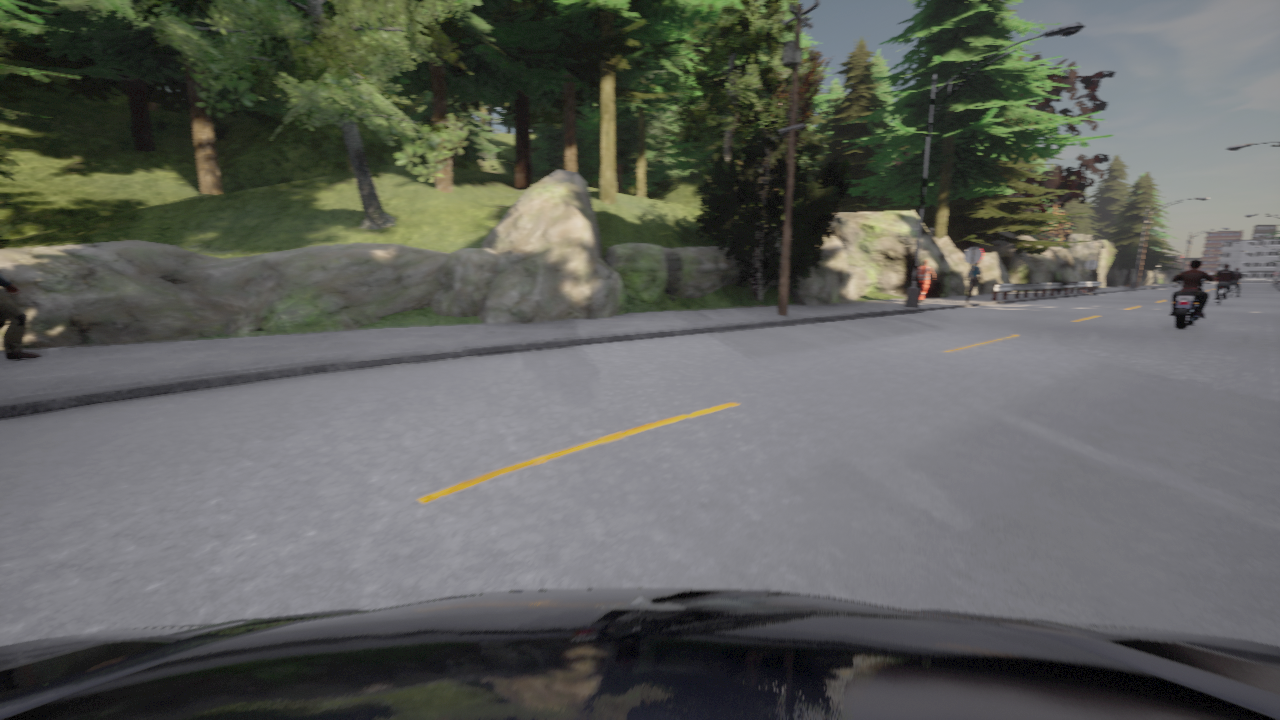cyclist: (0, 588, 1279, 719), (1172, 274, 1217, 328), (1215, 286, 1223, 305), (1229, 284, 1234, 296)
pedestrian: (0, 270, 40, 359), (917, 260, 934, 302), (966, 262, 981, 297)
